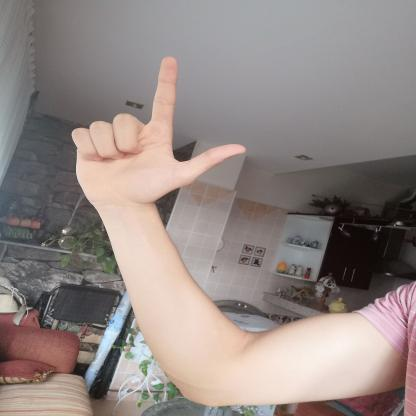LAAM: (59, 47, 257, 218)
